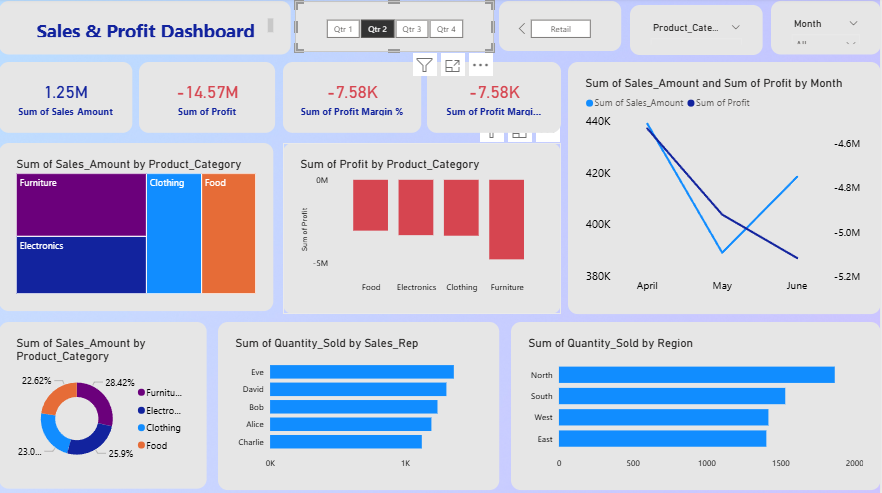

What the dashboard file says about the page in this screenshot:
{"tool":"powerbi","page":{"name":"Page 1","canvas":[1280,720],"ordinal":0},"visuals":[{"type":"lineChart","fields":{"Category":["sales_data.Sale_Date.Variation.Date Hierarchy.Month"],"Y":["Sum(sales_data.Sales_Amount)"],"Y2":["Sum(sales_data.Profit)"]},"box":[829.8,92.4,450.2,362.8],"z":0},{"type":"clusteredBarChart","fields":{"Category":["sales_data.Region"],"Y":["Sum(sales_data.Quantity_Sold)"]},"box":[747.5,467,532.5,241.9],"z":1000},{"type":"clusteredBarChart","fields":{"Category":["sales_data.Sales_Rep"],"Y":["Sum(sales_data.Quantity_Sold)"]},"box":[325.9,467,404.8,241.9],"z":2000},{"type":"donutChart","fields":{"Category":["sales_data.Product_Category"],"Y":["Sum(sales_data.Sales_Amount)"]},"box":[10.1,467,299,240.2],"z":3000},{"type":"clusteredColumnChart","fields":{"Category":["sales_data.Product_Category"],"Y":["Sum(sales_data.Profit)"]},"box":[419,208.8,400.3,246.2],"z":4000},{"type":"textbox","box":[10.1,5,419.9,77.3],"z":5000},{"type":"card","fields":{"Values":["Sum(sales_data.Sales_Amount)"]},"box":[10.1,92.2,191.5,102.2],"z":6000},{"type":"card","fields":{"Values":["Sum(sales_data.Profit)"]},"box":[211.7,92.2,195.8,102.2],"z":7000},{"type":"card","fields":{"Values":["Sum(sales_data.Profit Margin %)"]},"box":[419,92.2,198.7,102.2],"z":8000},{"type":"card","fields":{"Values":["Sum(sales_data.Profit Margin %)"]},"box":[626.4,92.2,193,102.2],"z":9000},{"type":"slicer","fields":{"Values":["sales_data.Sale_Date.Variation.Date Hierarchy.Quarter"]},"box":[436.7,5,285.6,72.2],"z":10000},{"type":"slicer","fields":{"Values":["sales_data.Sale_Date.Variation.Date Hierarchy.Month"]},"box":[1122.1,5,157.9,77.3],"z":11000},{"type":"slicer","fields":{"Values":["sales_data.Product_Category"]},"box":[918.8,10.1,191.5,72.2],"z":11001},{"type":"slicer","fields":{"Values":["sales_data.Sales_Channel"]},"box":[730.7,5,176.4,72.2],"z":11002},{"type":"treemap","fields":{"Group":["sales_data.Product_Category"],"Values":["Sum(sales_data.Sales_Amount)"]},"box":[10.1,208.3,394.8,241.9],"z":11003}]}

Visuals, with their boxes in screenshot pixels (x1, y1, x2, y2), scaled from the page's 1280x720 canvas onto the 882x493 screenshot:
lineChart - sales_data.Sale_Date.Variation.Date Hierarchy.Month x Sum(sales_data.Sales_Amount): 572/63/881/312
clusteredBarChart - sales_data.Region x Sum(sales_data.Quantity_Sold): 515/320/881/485
clusteredBarChart - sales_data.Sales_Rep x Sum(sales_data.Quantity_Sold): 225/320/503/485
donutChart - sales_data.Product_Category x Sum(sales_data.Sales_Amount): 7/320/213/484
clusteredColumnChart - sales_data.Product_Category x Sum(sales_data.Profit): 289/143/565/312
textbox: 7/3/296/56
card - Sum(sales_data.Sales_Amount): 7/63/139/133
card - Sum(sales_data.Profit): 146/63/281/133
card - Sum(sales_data.Profit Margin %): 289/63/426/133
card - Sum(sales_data.Profit Margin %): 432/63/565/133
slicer - sales_data.Sale_Date.Variation.Date Hierarchy.Quarter: 301/3/498/53
slicer - sales_data.Sale_Date.Variation.Date Hierarchy.Month: 773/3/881/56
slicer - sales_data.Product_Category: 633/7/765/56
slicer - sales_data.Sales_Channel: 503/3/625/53
treemap - sales_data.Product_Category x Sum(sales_data.Sales_Amount): 7/143/279/308
